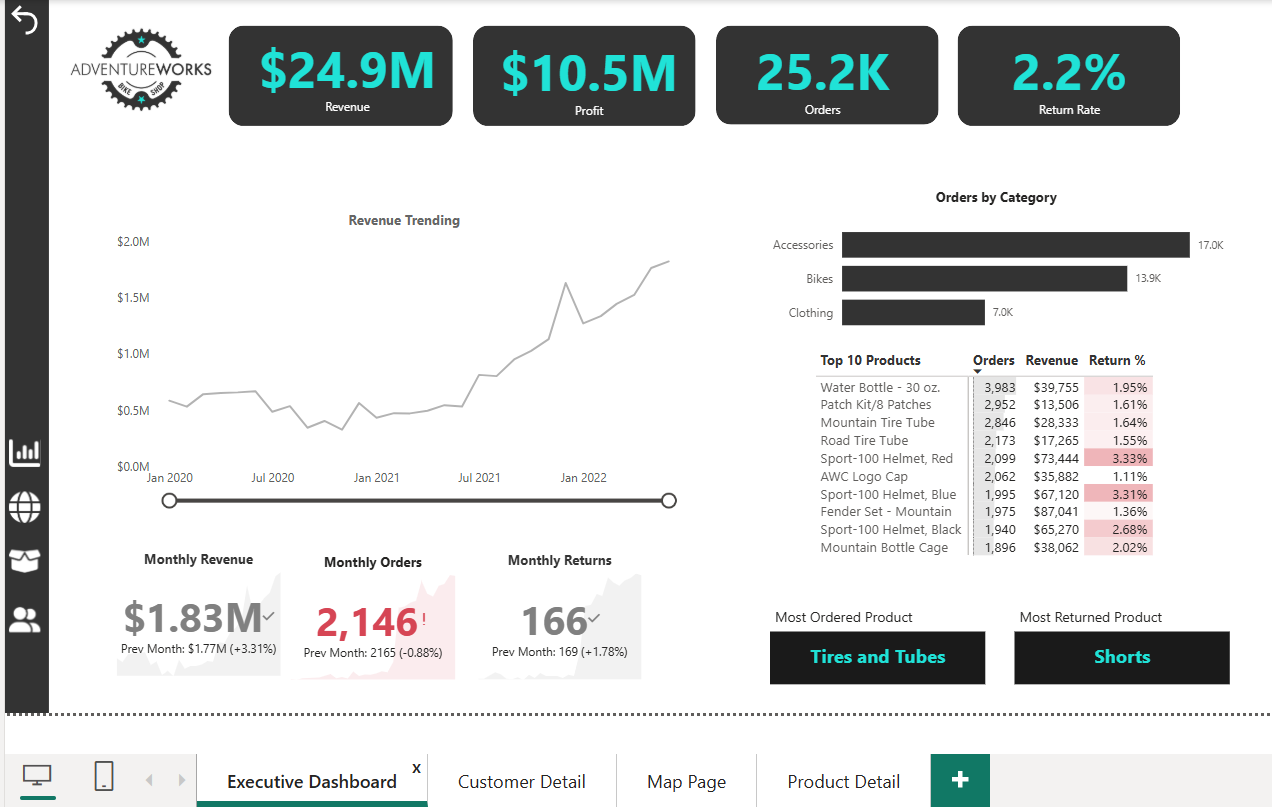

The page's visual inventory and layout, read from the dashboard file:
{"tool":"powerbi","page":{"name":"Executive Dashboard","canvas":[1280,720],"ordinal":0},"visuals":[{"type":"image","title":"AW logo ","box":[44.8,0,184.4,140.9],"z":0},{"type":"shape","box":[226.1,26.6,226.4,101.7],"z":0,"group":"g2"},{"type":"card","title":"Profit","fields":{"Values":["Measure Table.Total Profit"]},"box":[481.8,37.4,215.6,84.7],"z":0,"group":"g3"},{"type":"shape","box":[472.6,26.6,224.9,101.7],"z":1000,"group":"g2"},{"type":"card","title":"Return Rate","fields":{"Values":["Measure Table.Return Rate"]},"box":[988.6,26.6,171,103.2],"z":1000,"group":"g3"},{"type":"lineChart","title":"Revenue Trending","fields":{"Y":["Measure Table.Total Revenue"],"Category":["Calendar Lookup.Date Hierarchy.Year","Calendar Lookup.Start of Quarter","Calendar Lookup.Start of Month"]},"box":[107.4,211.8,591.2,304.4],"z":1000},{"type":"card","title":"Order","fields":{"Values":["Measure Table.Total Orders"]},"box":[730.6,26.2,190.6,102.8],"z":2000,"group":"g3"},{"type":"shape","box":[962.4,26.6,224.9,101.7],"z":2000,"group":"g2"},{"type":"kpi","title":"Monthly Revenue","fields":{"Indicator":["Measure Table.Total Revenue"],"TrendLine":["Calendar Lookup.Start of Month"],"Goal":["Measure Table.Previous Month Revenue"]},"box":[107.9,554.3,175.9,133],"z":2000},{"type":"shape","box":[717.5,26.6,224.9,100.1],"z":3000,"group":"g2"},{"type":"card","title":"Revenue","fields":{"Values":["Measure Table.Total Revenue"]},"box":[239.5,31.4,212.2,89.2],"z":3000,"group":"g3"},{"type":"kpi","title":"Monthly Orders","fields":{"TrendLine":["Calendar Lookup.Start of Month"],"Indicator":["Measure Table.Total Orders"],"Goal":["Measure Table.Previous Month Orders"]},"box":[283.8,557.4,176.5,133.8],"z":3000},{"type":"shape","title":"Left Navbar","box":[0,0,44.3,719.8],"z":4000,"group":"g4"},{"type":"kpi","title":"Monthly Returns","fields":{"TrendLine":["Calendar Lookup.Start of Month"],"Goal":["Measure Table.Previous Month Returns"],"Indicator":["Measure Table.Total Returns"]},"box":[472.1,555.9,175,135.3],"z":4000},{"type":"actionButton","title":"Map","box":[0,492.6,44.1,39.7],"z":4125,"group":"g4"},{"type":"actionButton","title":"Customer Button","box":[0,605.9,44.1,39.7],"z":4250,"group":"g4"},{"type":"group","id":"g1","title":"KPIs","box":[226.1,26.2,961.2,103.6],"z":5000},{"type":"actionButton","title":"Product","box":[0,547.1,44.1,39.7],"z":5500,"group":"g4"},{"type":"group","id":"g2","title":"KPI Backgrounds","box":[226.1,26.6,961.2,101.7],"z":6000,"group":"g1"},{"type":"barChart","title":"Orders by Category","fields":{"Category":["Product Categories Lookup.CategoryName"],"Y":["Measure Table.Total Orders"]},"box":[764.7,189.7,472.1,158.8],"z":6000},{"type":"actionButton","title":"Exec Dashboard","box":[0,438.2,44.1,39.7],"z":6000,"group":"g4"},{"type":"actionButton","title":"Bookmark","box":[0,0,44.1,39.7],"z":6500,"group":"g4"},{"type":"group","id":"g3","title":"KPI Values","box":[239.5,26.2,920.1,103.6],"z":7000,"group":"g1"},{"type":"pivotTable","fields":{"Rows":["Product Lookup.ProductName"],"Values":["Measure Table.Total Orders","Measure Table.Total Revenue","Measure Table.Return Rate"]},"box":[813.2,348.5,373.5,227.9],"z":7000},{"type":"card","fields":{"Values":["Min(Product Subcategories Lookup.SubcategoryName)"]},"box":[771.5,637,217.3,53.2],"z":8000},{"type":"textbox","box":[771.5,607.5,187.7,29.6],"z":9000},{"type":"card","fields":{"Values":["Min(Product Subcategories Lookup.SubcategoryName)"]},"box":[1018.4,637,217.3,53.2],"z":10000},{"type":"textbox","box":[1018.4,607.5,217.3,29.6],"z":11000},{"type":"group","id":"g4","title":"Left Bar","box":[0,0,44.3,719.8],"z":12000}]}

Visuals, with their boxes on the page's 1280x720 design canvas (x1, y1, x2, y2). These are canvas units, not pixel positions in the 1272x807 screenshot, which may show the page scaled, cropped or inside an application window:
"AW logo " image: [45,0,229,141]
shape: [226,27,452,128]
"Profit" card: [482,37,697,122]
shape: [473,27,698,128]
"Return Rate" card: [989,27,1160,130]
"Revenue Trending" lineChart: [107,212,699,516]
"Order" card: [731,26,921,129]
shape: [962,27,1187,128]
"Monthly Revenue" kpi: [108,554,284,687]
shape: [718,27,942,127]
"Revenue" card: [240,31,452,121]
"Monthly Orders" kpi: [284,557,460,691]
"Left Navbar" shape: [0,0,44,720]
"Monthly Returns" kpi: [472,556,647,691]
"Map" actionButton: [0,493,44,532]
"Customer Button" actionButton: [0,606,44,646]
"KPIs" group: [226,26,1187,130]
"Product" actionButton: [0,547,44,587]
"KPI Backgrounds" group: [226,27,1187,128]
"Orders by Category" barChart: [765,190,1237,348]
"Exec Dashboard" actionButton: [0,438,44,478]
"Bookmark" actionButton: [0,0,44,40]
"KPI Values" group: [240,26,1160,130]
pivotTable - Product Lookup.ProductName x Measure Table.Total Orders: [813,348,1187,576]
card - Min(Product Subcategories Lookup.SubcategoryName): [772,637,989,690]
textbox: [772,608,959,637]
card - Min(Product Subcategories Lookup.SubcategoryName): [1018,637,1236,690]
textbox: [1018,608,1236,637]
"Left Bar" group: [0,0,44,720]
